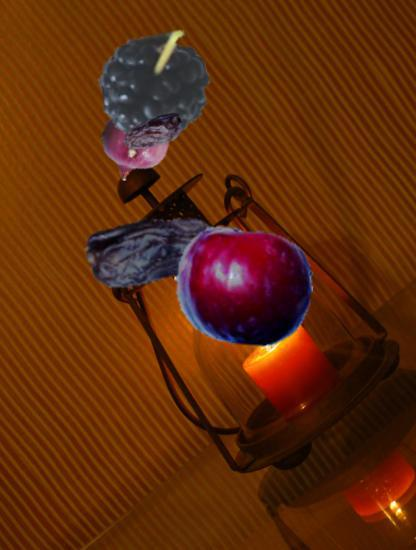Dates: (84, 182, 227, 325), (123, 103, 184, 164)
Mulberry: (84, 30, 223, 169)
Onion: (95, 103, 174, 182)
Plum: (174, 217, 313, 356)
